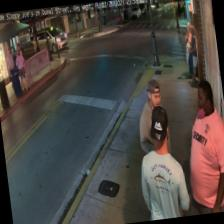person: (132, 104, 190, 220), (132, 77, 178, 220), (178, 78, 224, 214)
